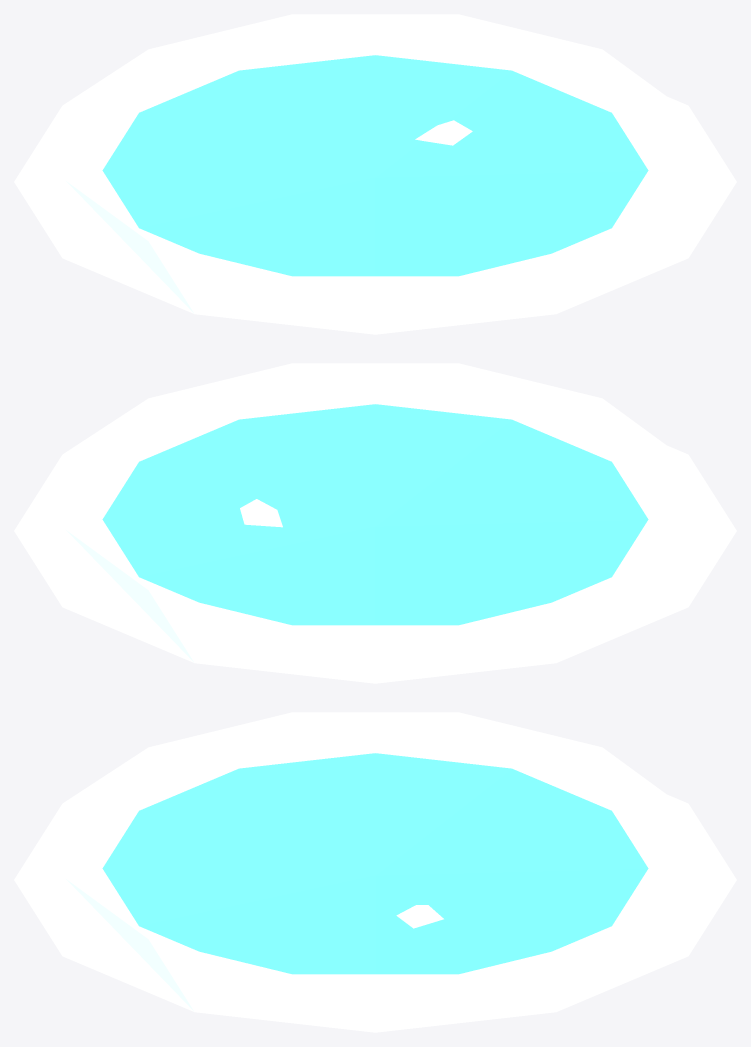
File: ice-hole.glb
3 views of the same model, one above another, from view 1: azimuth 30°, elevation 25°; view 2: azimuth 150°, elevation 25°; view 3: azimuth 270°, elevation 25° (orthographic).
Visible parts, largest first — view 1: ice-hole; view 2: ice-hole; view 3: ice-hole.
Boxes of the visible parts, x1=… form: ice-hole: x1=14, y1=14, x2=736, y2=334; ice-hole: x1=14, y1=363, x2=736, y2=683; ice-hole: x1=14, y1=712, x2=736, y2=1032.
Bounding box in the file's own units: 2.86 × 0.16 × 2.86.
